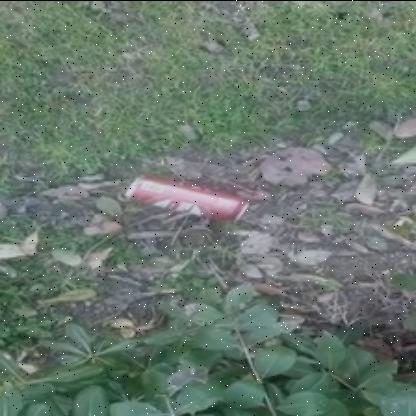Can: (126, 173, 250, 223)
